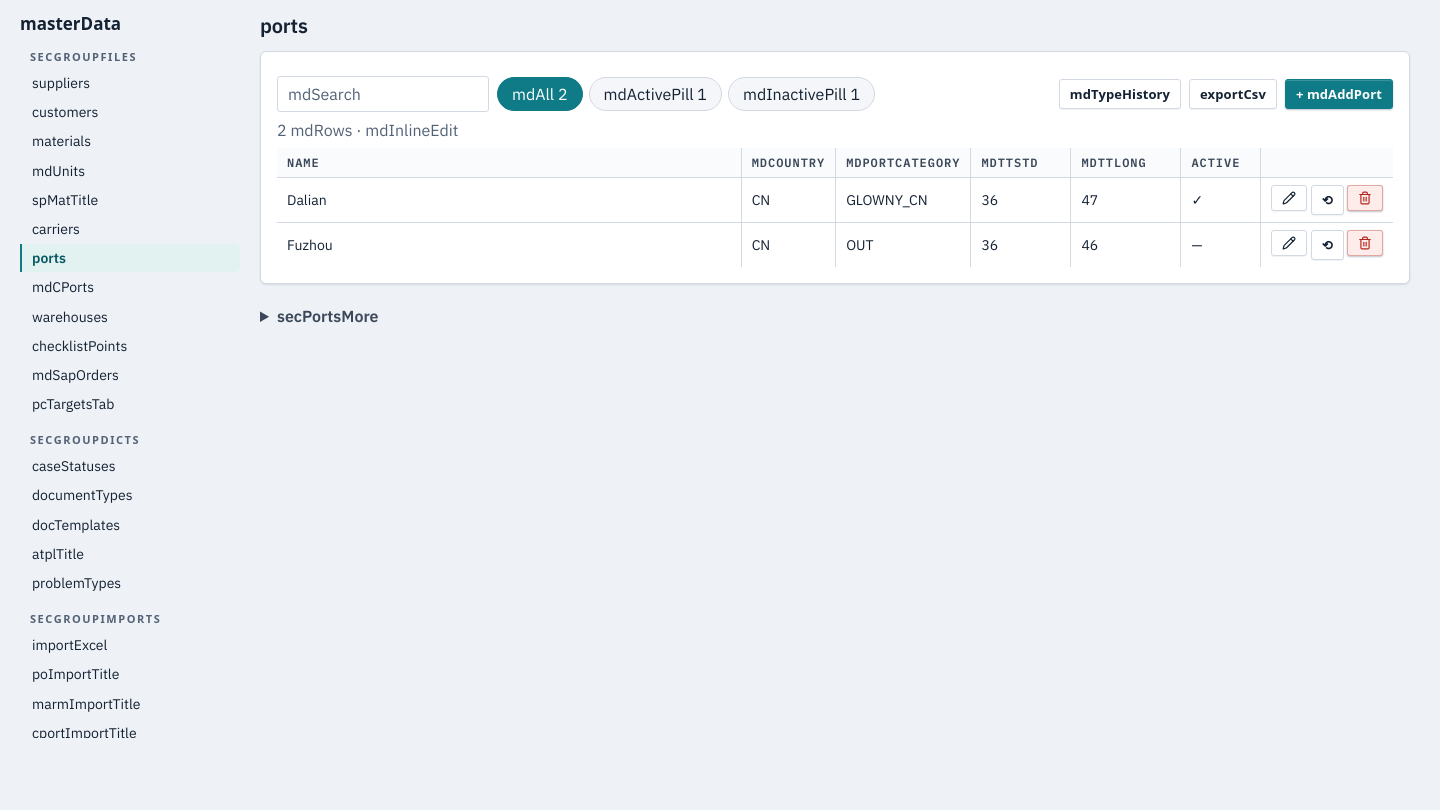
Scenario: EditableTable — porty (układ 1a) › pigułki Aktywne/Nieaktywne filtrują wiersze i pokazują liczniki
The image size is (1440, 810).
Check: the text "Dalian" is shown, box [277, 178, 741, 222]
Click the button "mdActivePill 1". click: point(655, 94)
box: [588, 77, 722, 111]
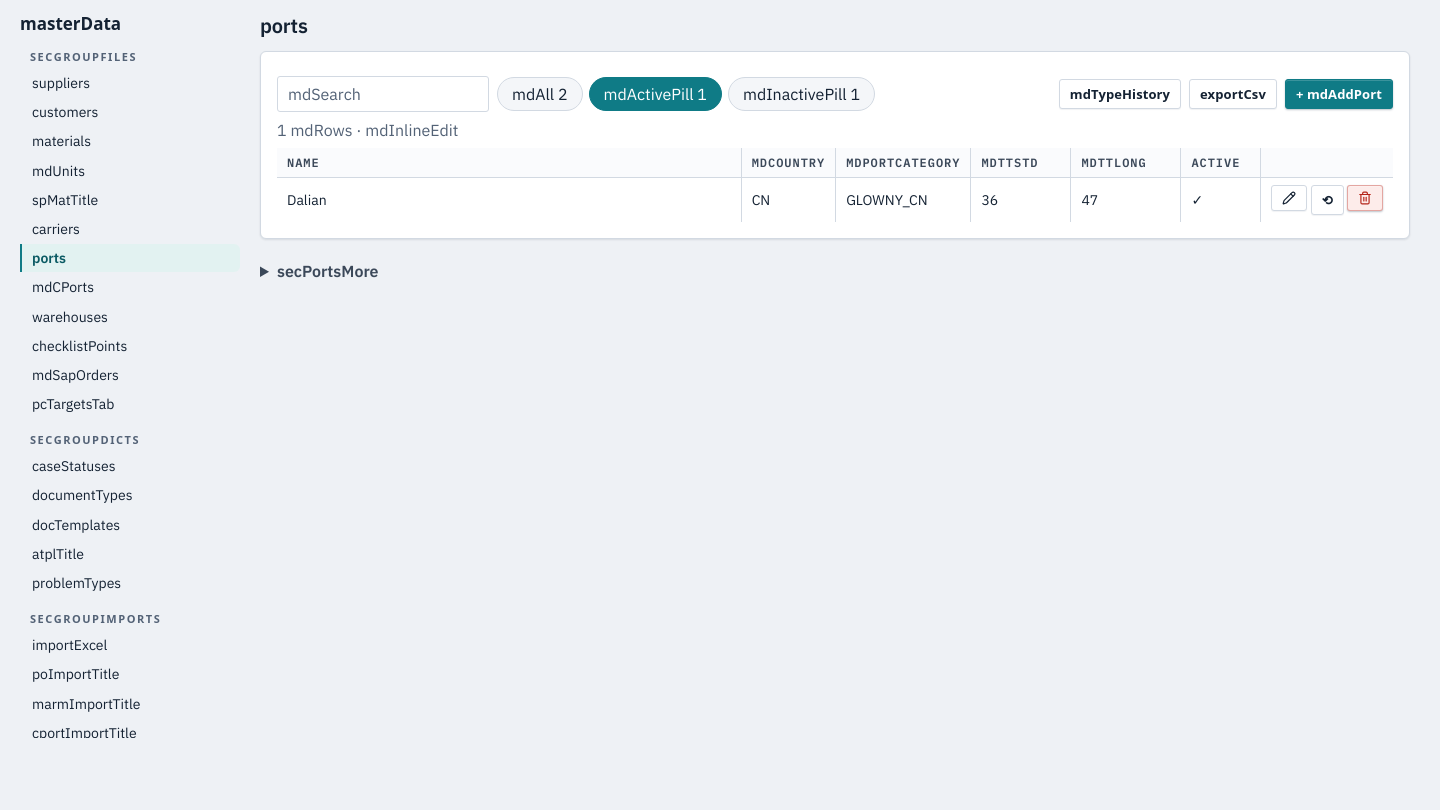
Check: the text "Dalian" is shown, box [277, 178, 741, 222]
Check: the text "Fuzhou" is gone
Click the button "mdInactivePill 1". click: point(802, 94)
box: [728, 77, 875, 111]
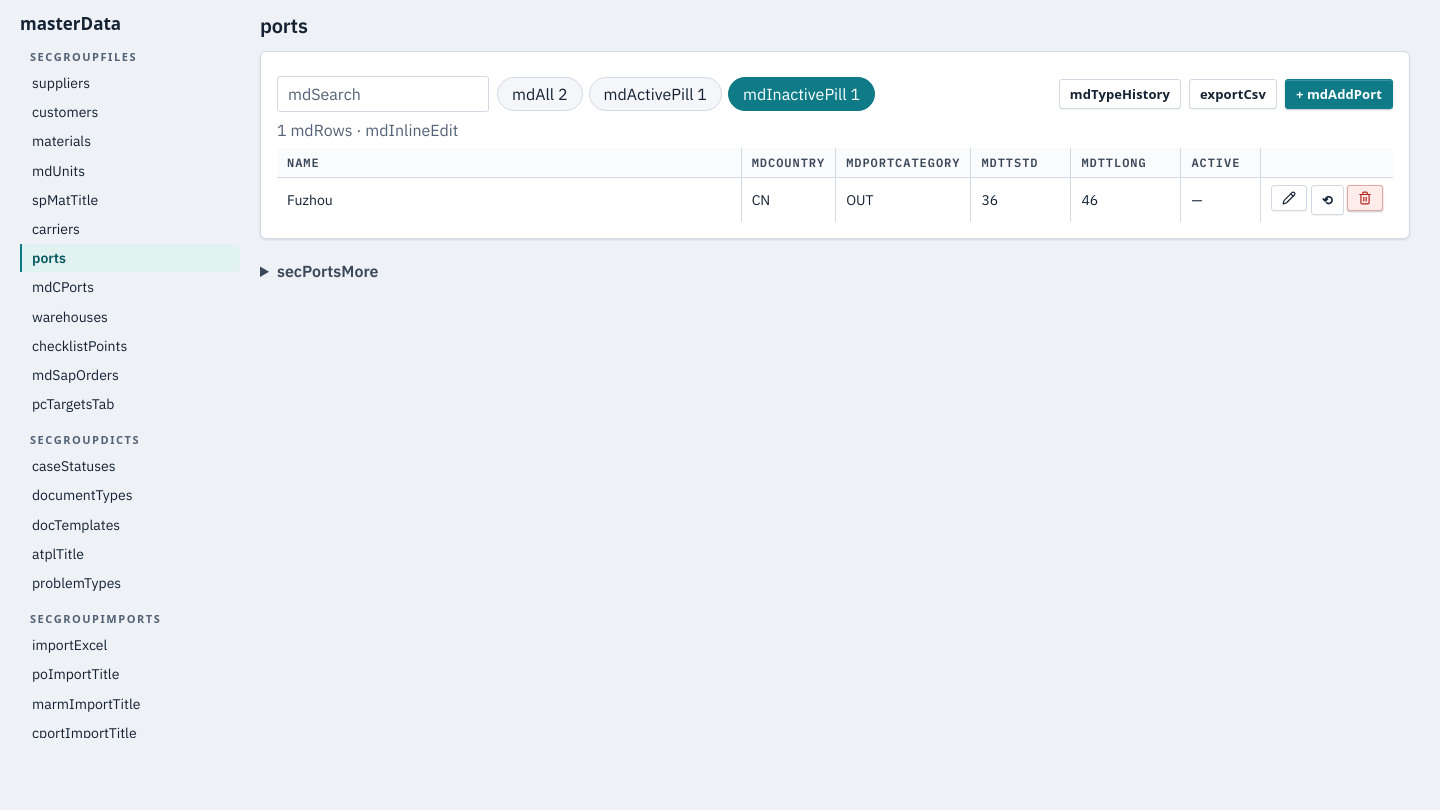
Check: the text "Dalian" is gone
Check: the text "Fuzhou" is shown, box [277, 178, 741, 222]
